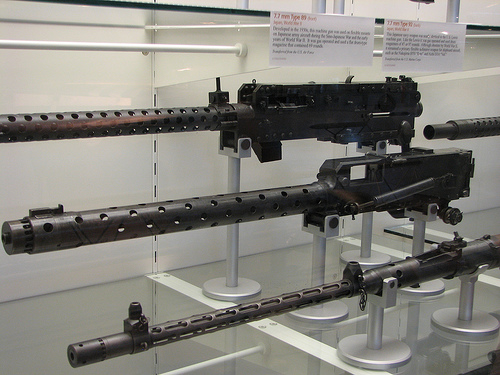rifle: (21, 240, 497, 363), (1, 77, 418, 156), (7, 162, 471, 232)
